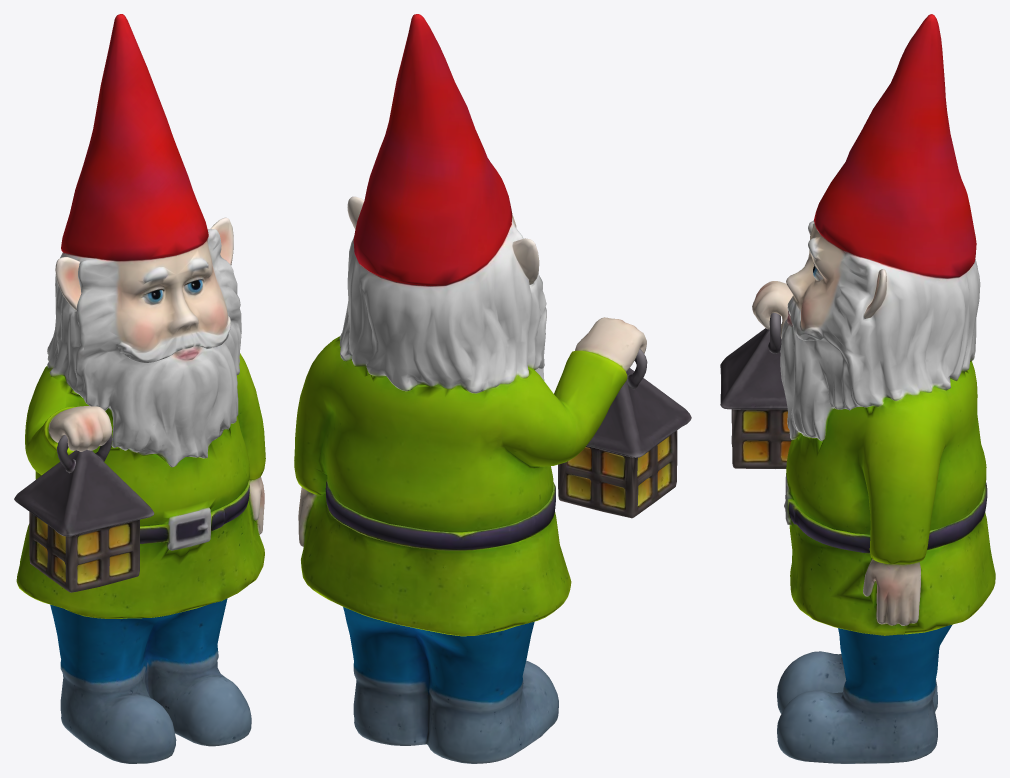
Rendered from garden_gnome.glb.
The picture shows the model from 3 angles, left to right: view 1: azimuth 30°, elevation 25°; view 2: azimuth 150°, elevation 25°; view 3: azimuth 270°, elevation 25°; orthographic projection. The views are drawn at different scales.
Parts seen in each view (by area): view 1: garden_gnome; view 2: garden_gnome; view 3: garden_gnome.
Part boxes in pixels (bbox=[...]): garden_gnome: bbox=[14, 14, 265, 763]; garden_gnome: bbox=[294, 14, 691, 763]; garden_gnome: bbox=[720, 14, 995, 763].
Size of the model in its own units: 0.2577 by 0.5991 by 0.2097.
1 material, 1 textured.
